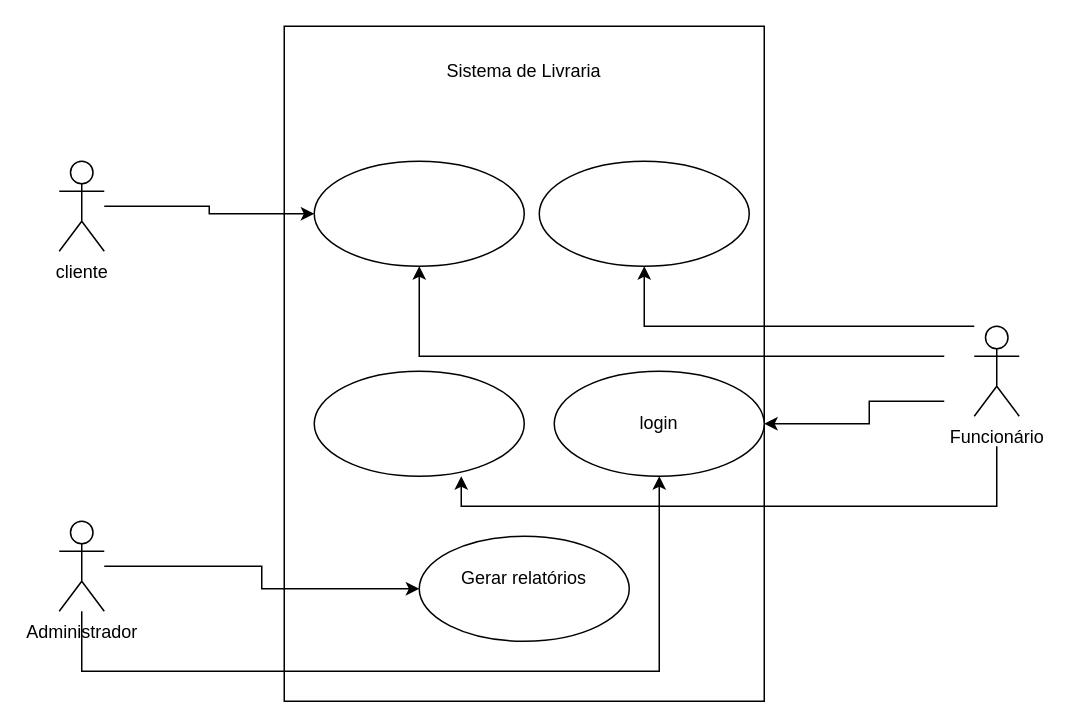
The diagram is 1070 pixels wide and 728 high, and some of its shapes have lost their labels. Here are the shapes that lost their labels. From the top down, the box of each, then its label:
(313, 160, 524, 266): Registrar venda
(538, 160, 749, 266): cadastrar cliente
(313, 370, 524, 476): cadastrar livro
